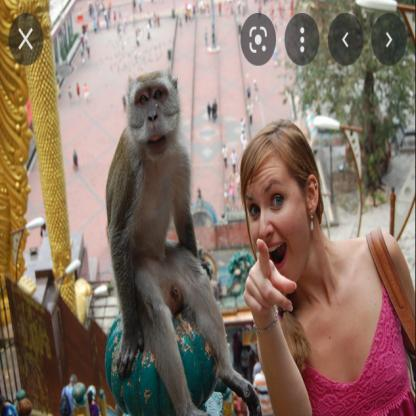monkey: (103, 66, 250, 414)
